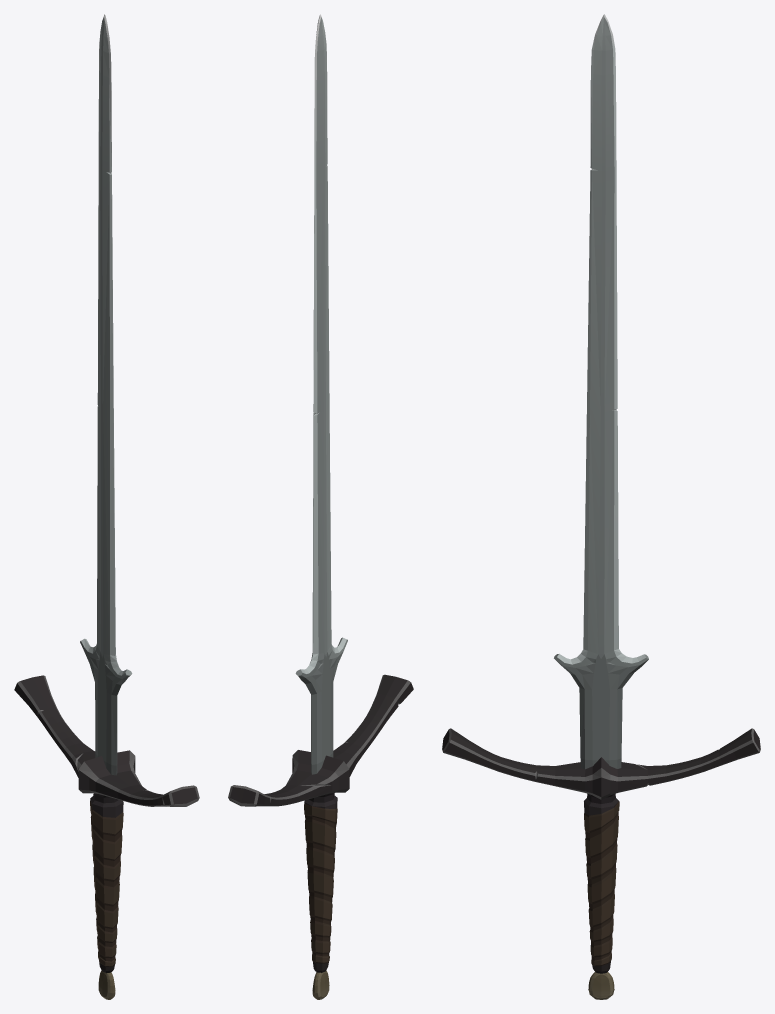
File: bladedHeavyZweihander.glb
3 views of the same model, side by side, from view 1: azimuth 30°, elevation 25°; view 2: azimuth 150°, elevation 25°; view 3: azimuth 270°, elevation 25° (orthographic).
Parts seen in each view (by area): view 1: bladedHeavyZweihander; view 2: bladedHeavyZweihander; view 3: bladedHeavyZweihander.
Part boxes in pixels (box(x1,y1,x2,y2)): bladedHeavyZweihander: box(14, 14, 199, 999); bladedHeavyZweihander: box(228, 14, 413, 999); bladedHeavyZweihander: box(442, 14, 760, 999).
Size of the model in its own units: 0.101 by 1.67 by 0.4886.
